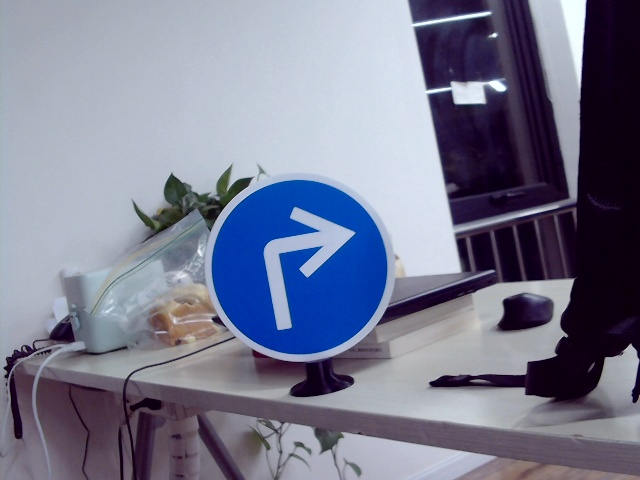turn_right: (256, 201, 356, 334)
